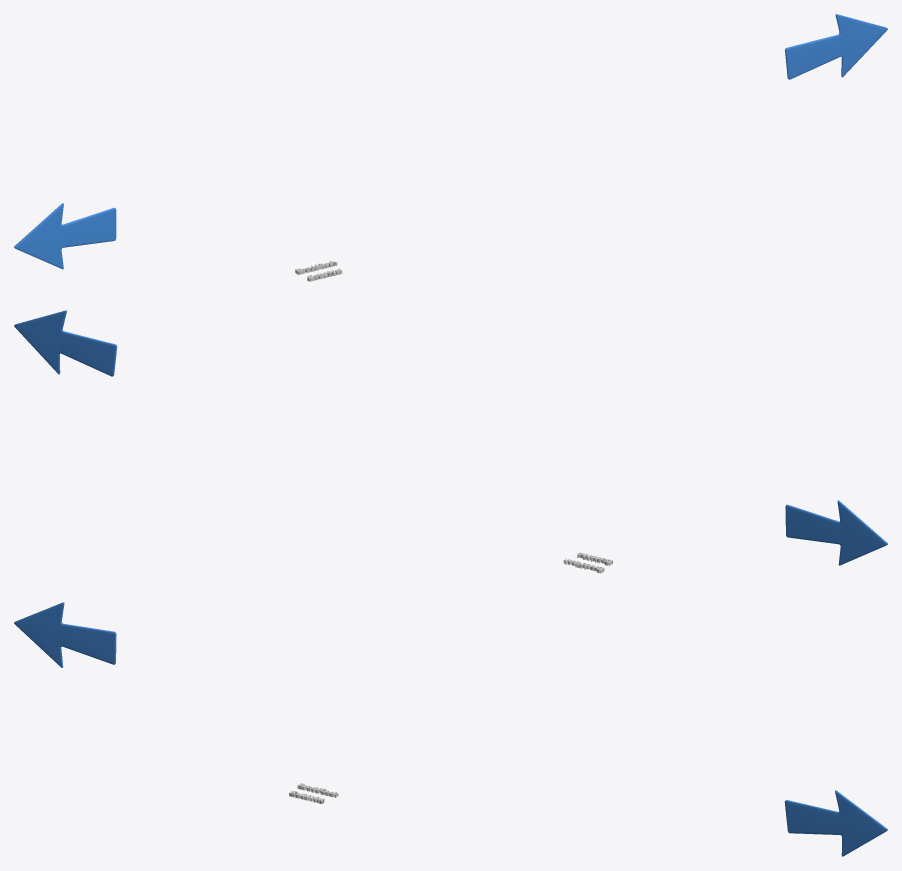
File: road1.glb
3 renders of one model, top to bottom at view 1: azimuth 30°, elevation 25°; view 2: azimuth 150°, elevation 25°; view 3: azimuth 330°, elevation 25°, orthographic.
Parts seen in each view (by area): view 1: Arrow, Arrow_Material.001_0.002; view 2: Arrow_Material.001_0.002, Arrow; view 3: Arrow, Arrow_Material.001_0.002.
Part boxes in pixels (x1,y1,x2,y2): Arrow: [14, 203, 116, 269]; Arrow_Material.001_0.002: [785, 14, 887, 79]; Arrow_Material.001_0.002: [14, 310, 117, 376]; Arrow: [785, 500, 887, 565]; Arrow: [14, 602, 116, 667]; Arrow_Material.001_0.002: [784, 790, 887, 856].
Bounding box in the file's own units: 103 × 14.64 × 2.69.
